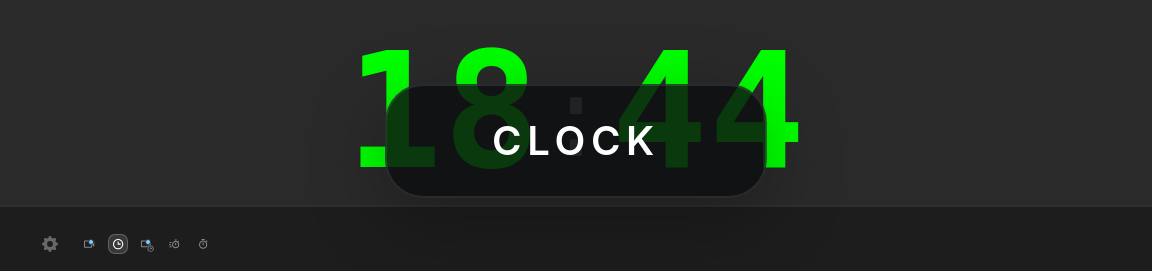
Test: V2 Clock Mode › renders hours:minutes only, no status bar clock, toggles AM/PM in action rail when clicked
Click the button "18 : 44" at (576, 112), box 346,32 -> 806,192
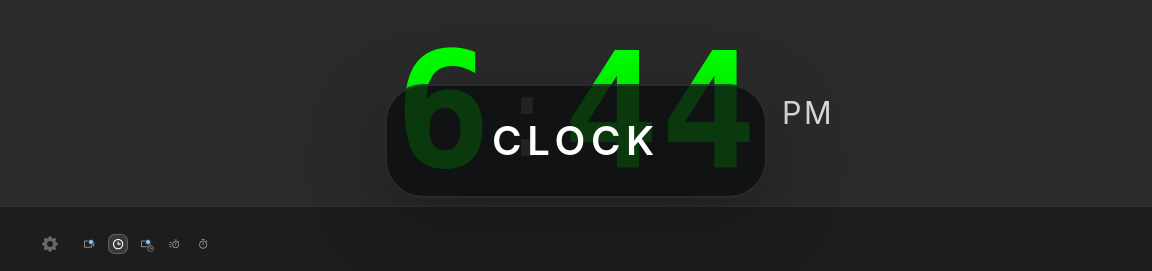
Now the text "PM" is shown, box 782,93 -> 834,130
